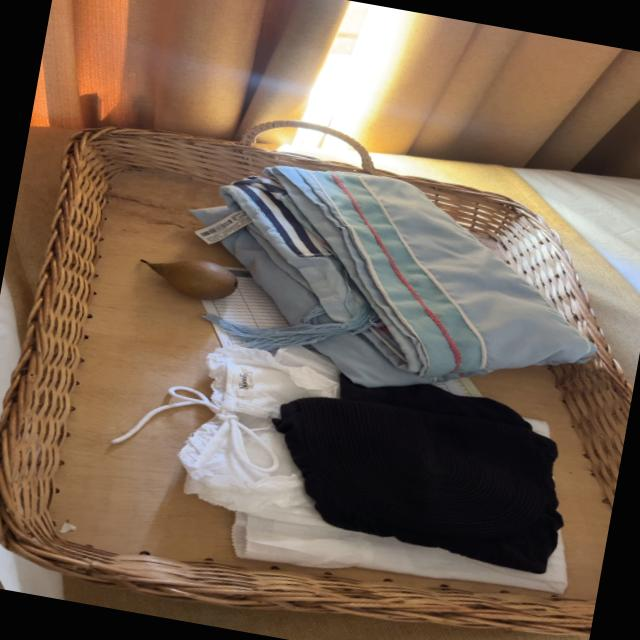pear: (140, 259, 236, 299)
